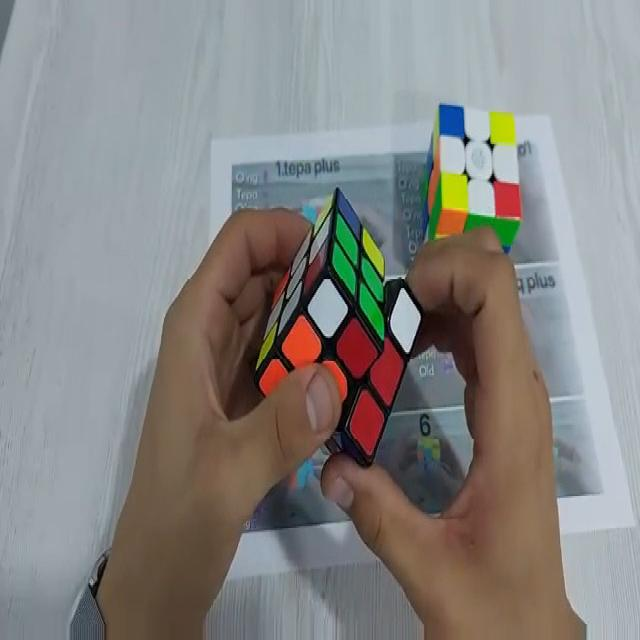Rub: (257, 187, 421, 468), (425, 100, 522, 249)
